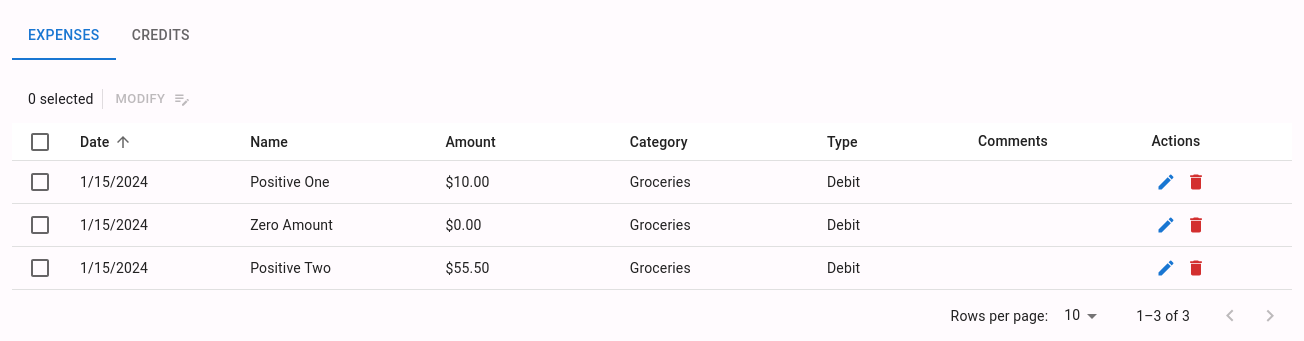
FileImportReview › filtering by source › should correctly split expenses into debits and credits based on amount sign
Expected: the text "Positive One" is shown, [234,161,430,204]
Expected: the text "Zero Amount" is shown, [234,204,430,247]
Note: Credits tab should show negatives
Click the tab "Credits": (161,36) [116,12,206,60]
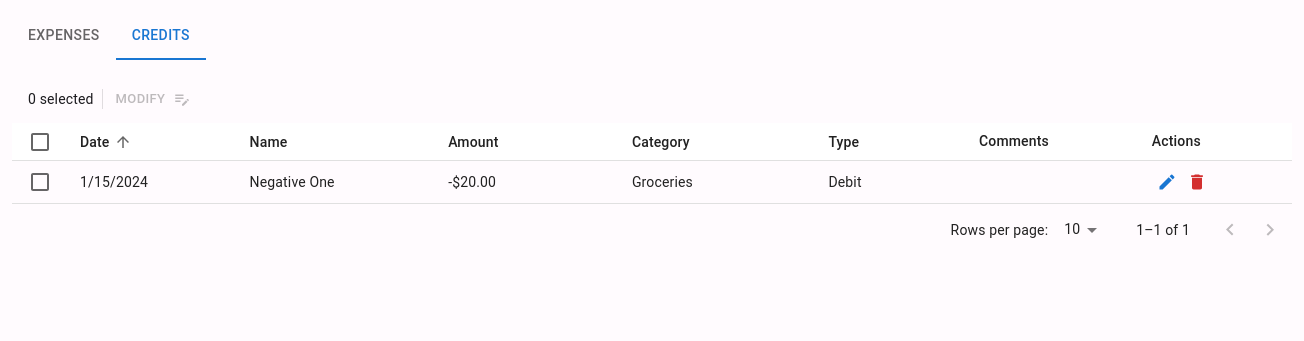
Expected: the text "Negative One" is shown, [234,161,432,204]
Expected: the text "Positive One" is gone
